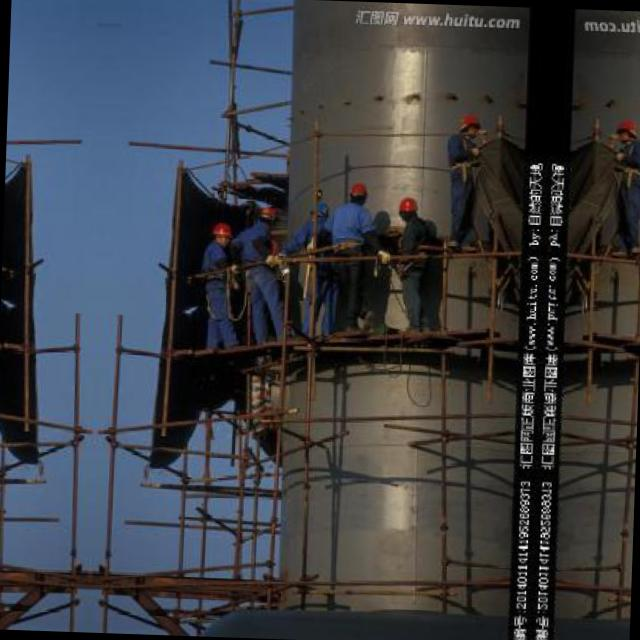helmet: (210, 218, 232, 250), (395, 197, 420, 224), (309, 196, 330, 228), (455, 112, 480, 138), (616, 117, 640, 144), (255, 202, 278, 228), (345, 180, 369, 204)
